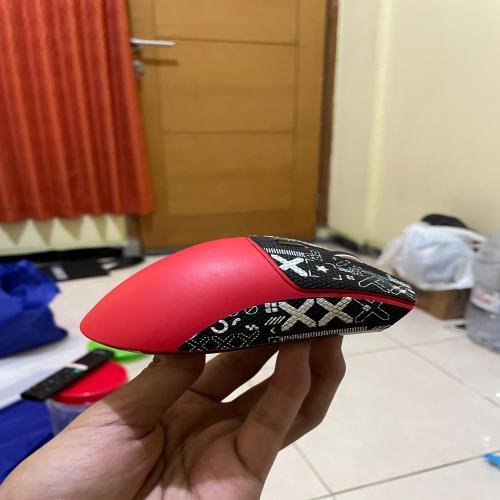mouse: (72, 224, 430, 360)
